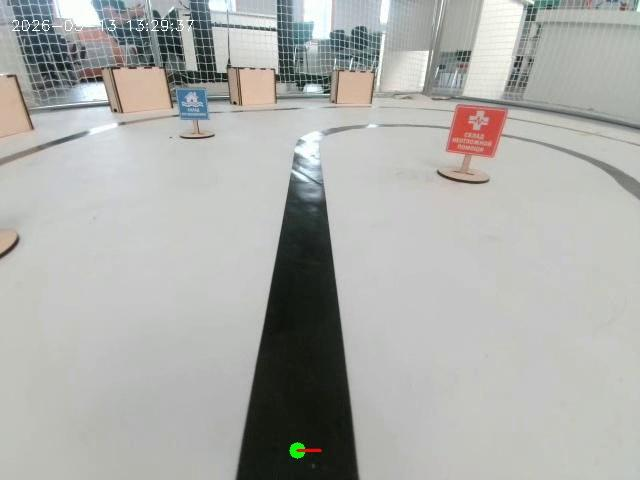flood: (164, 74, 243, 154)
medical: (436, 92, 511, 213)
